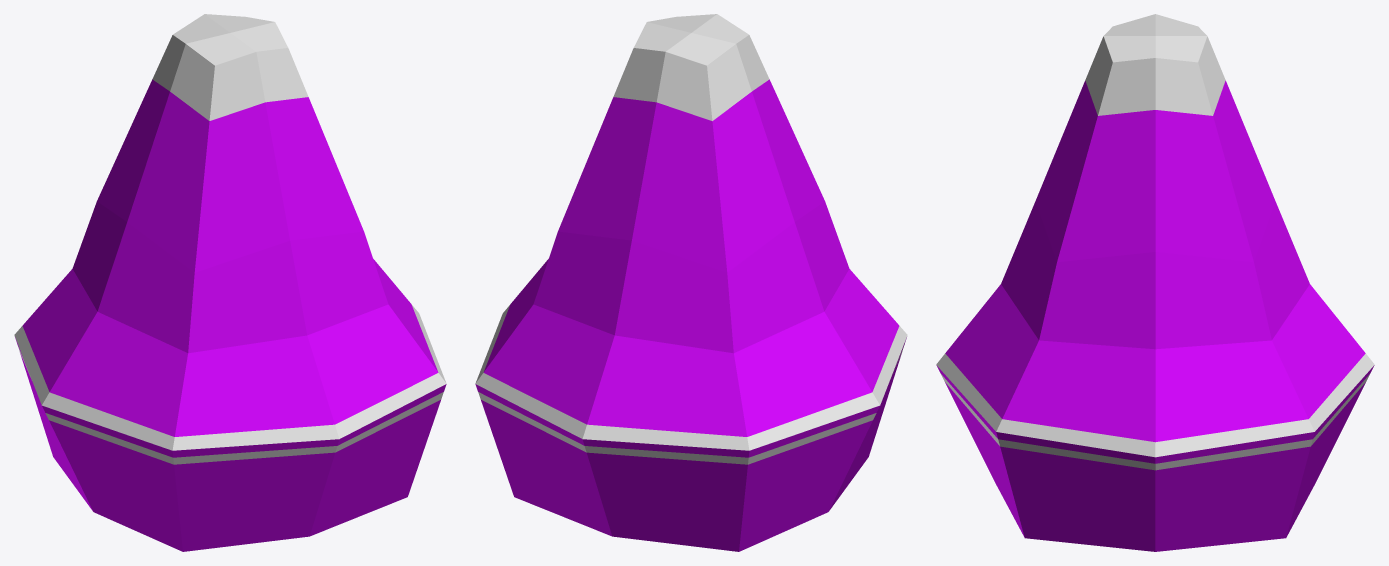
Rendered from luz violeta.fbx.
3 renders of one model, left to right at view 1: azimuth 30°, elevation 25°; view 2: azimuth 150°, elevation 25°; view 3: azimuth 270°, elevation 25°, orthographic.
Parts seen in each view (by area): view 1: Cube; view 2: Cube; view 3: Cube.
Boxes of the visible parts, bbox=[...] form: Cube: bbox=[14, 14, 446, 551]; Cube: bbox=[475, 14, 907, 551]; Cube: bbox=[936, 14, 1374, 551].
Size of the model in its own units: 298 by 378 by 298.
